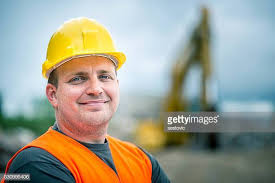Person_wearing_helmet: (36, 10, 127, 89)
